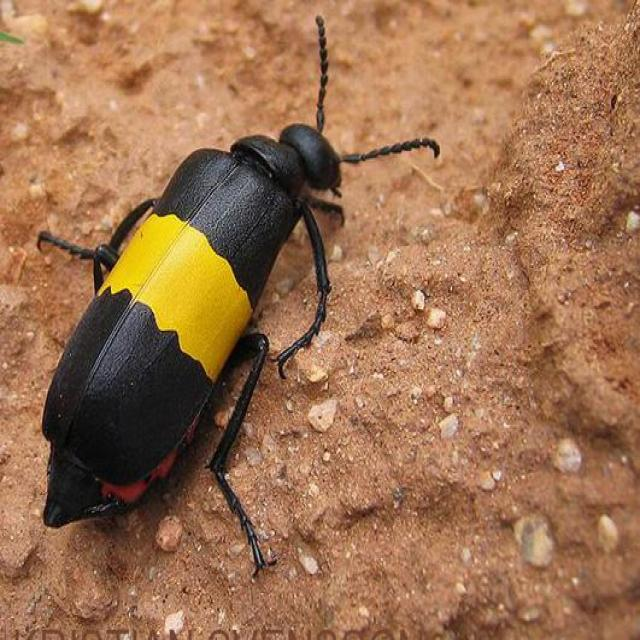BlisterBeetle-Adult-: (34, 11, 444, 583)
